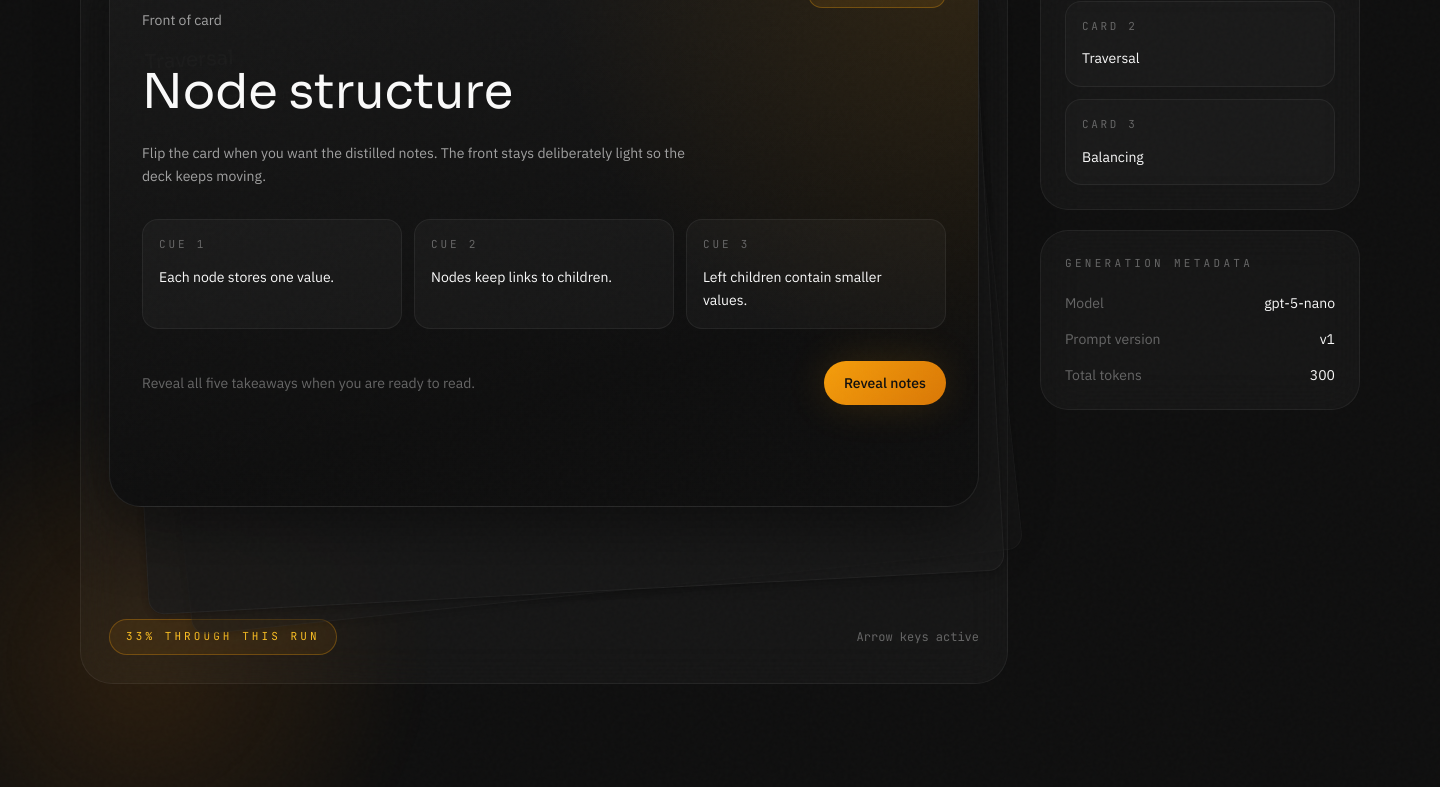
Test: DeckSwiper › flips the active card and advances through the stack
(page scrolled)
expect the heading "Node structure" is shown: met, box [142, 61, 513, 122]
Click the button "Reveal notes" at (885, 383), box [824, 361, 946, 405]
(page scrolled)
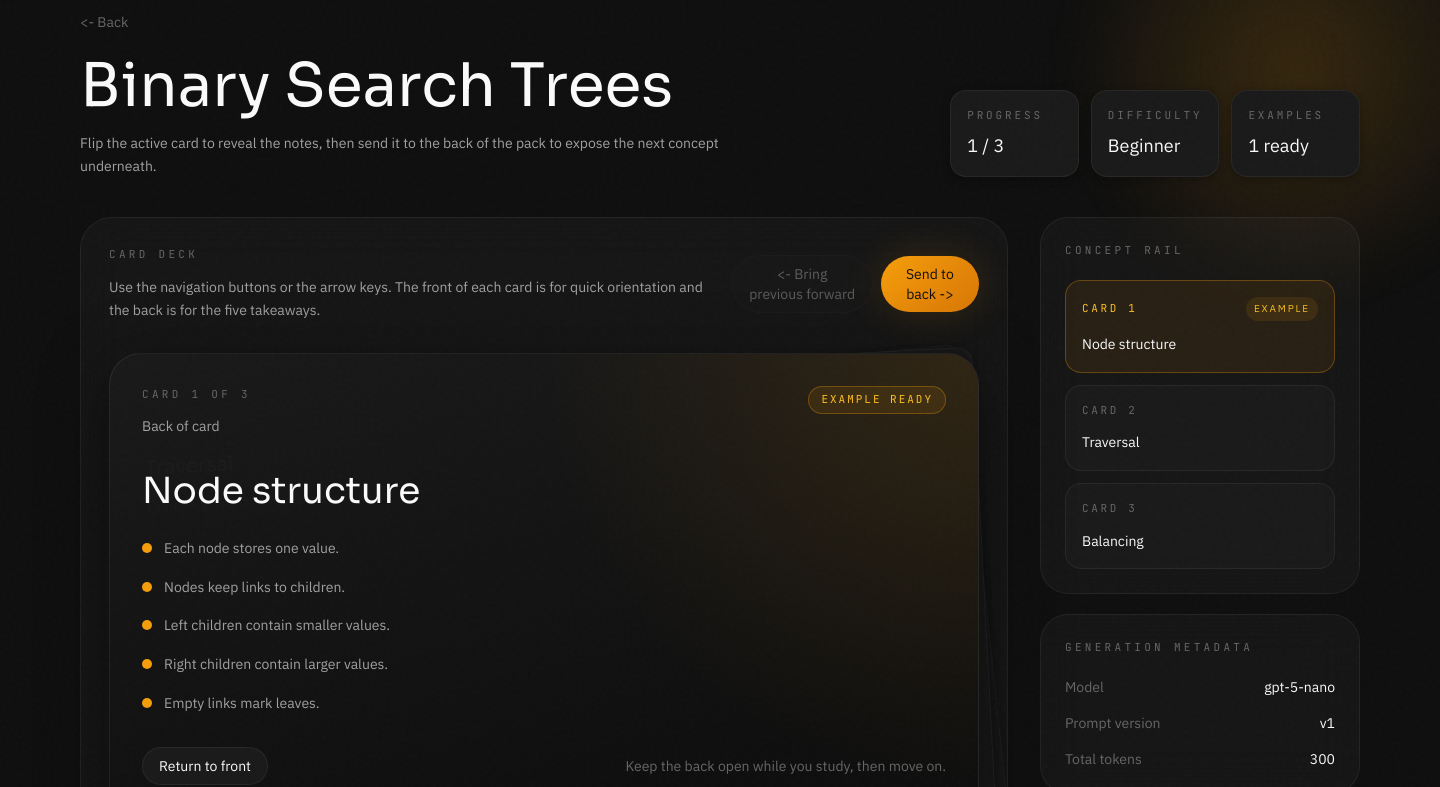
expect the text "Left children contain smaller values." is shown: met, box [164, 614, 390, 637]
Click the button "Send to back ->" at (930, 284), box [881, 256, 979, 312]
Wait 320 ms
(page scrolled)
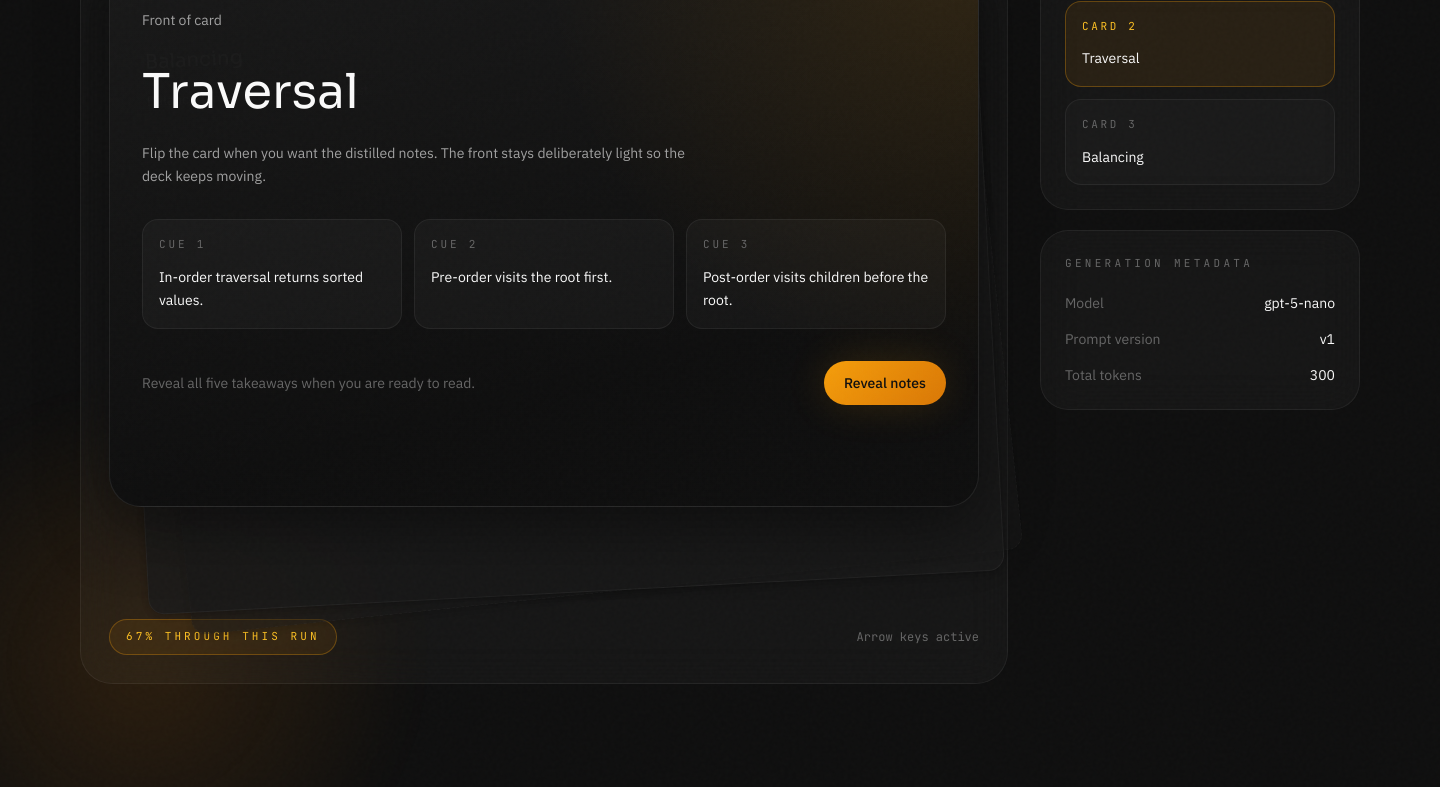
expect the heading "Traversal" is shown: met, box [142, 61, 359, 122]
expect the button "Reveal notes" is shown: met, box [824, 361, 946, 405]
